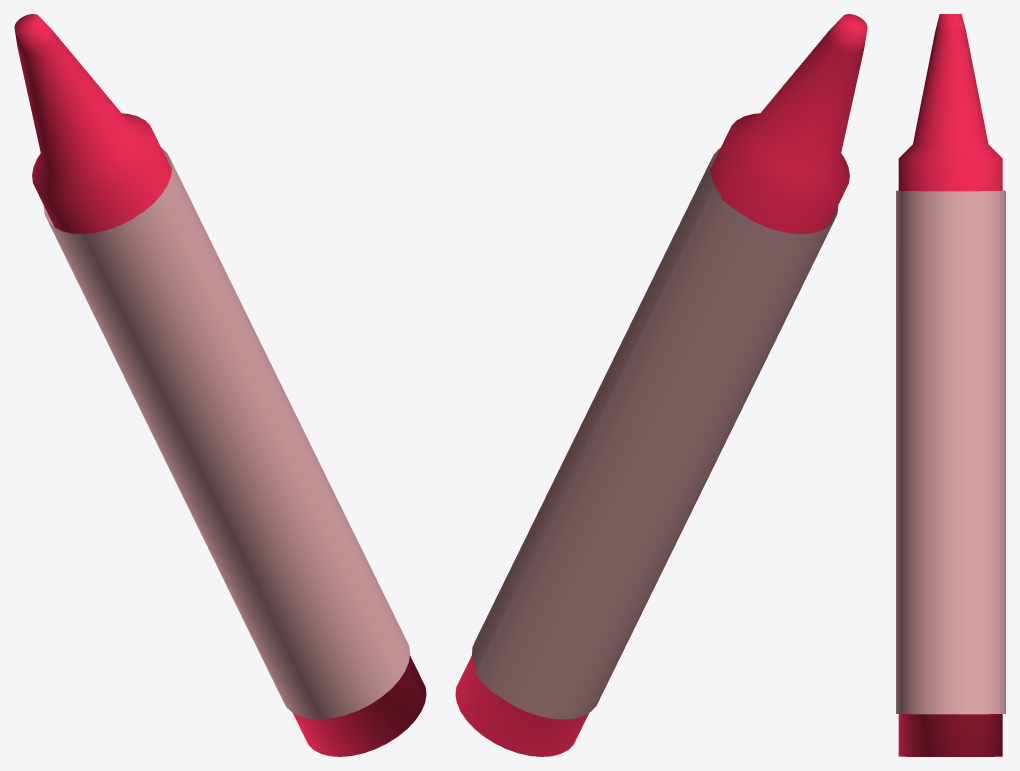
The picture shows the model from 3 angles, left to right: view 1: azimuth 30°, elevation 25°; view 2: azimuth 150°, elevation 25°; view 3: azimuth 270°, elevation 25°; orthographic projection. The views are drawn at different scales.
Visible parts, largest first — view 1: Red_Wrapper; view 2: Red_Wrapper; view 3: Red_Wrapper.
Part boxes in pixels (box(x1,y1,x2,y2)): Red_Wrapper: box(14, 14, 426, 756); Red_Wrapper: box(455, 14, 867, 756); Red_Wrapper: box(896, 14, 1005, 756).
Size of the model in its own units: 0.6466 by 1.24 by 0.1939.
